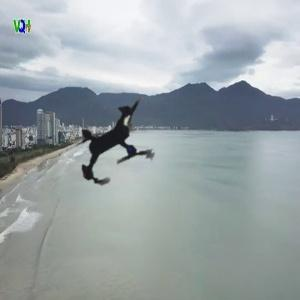drone: (42, 72, 190, 220)
